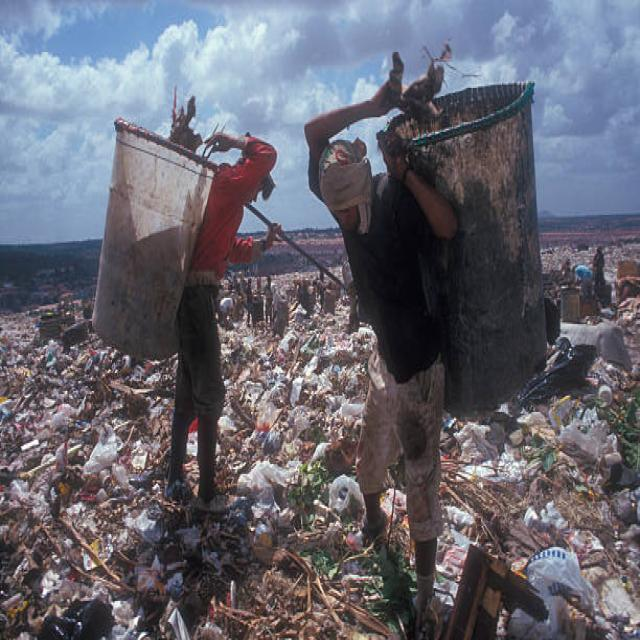trash: (422, 83, 626, 593), (12, 308, 170, 617), (225, 305, 348, 539)
